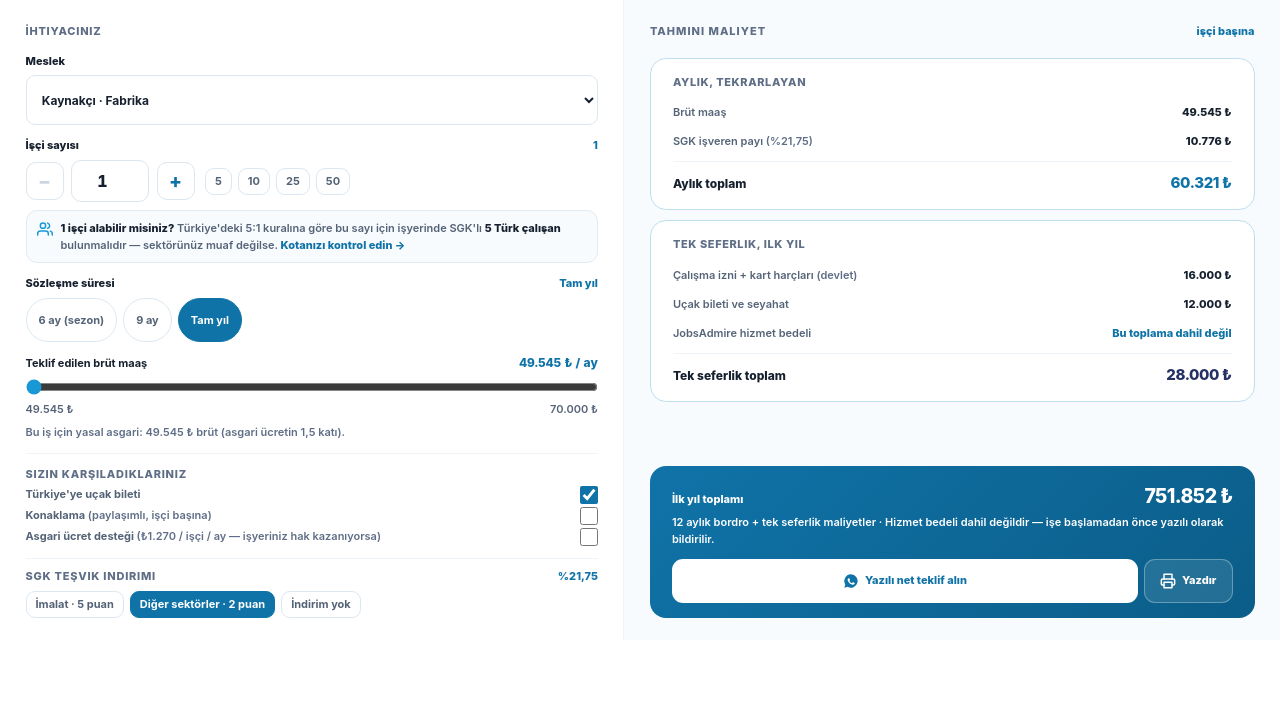
Test case: CalculatorIsland › the SGK tier is validated state: a chip sets it and the rate follows (W144)
This screenshot has width=1280, height=720.
Click the radio button labelled "İmalat · 5 puan" at (75, 604), box [26,591,124,618]
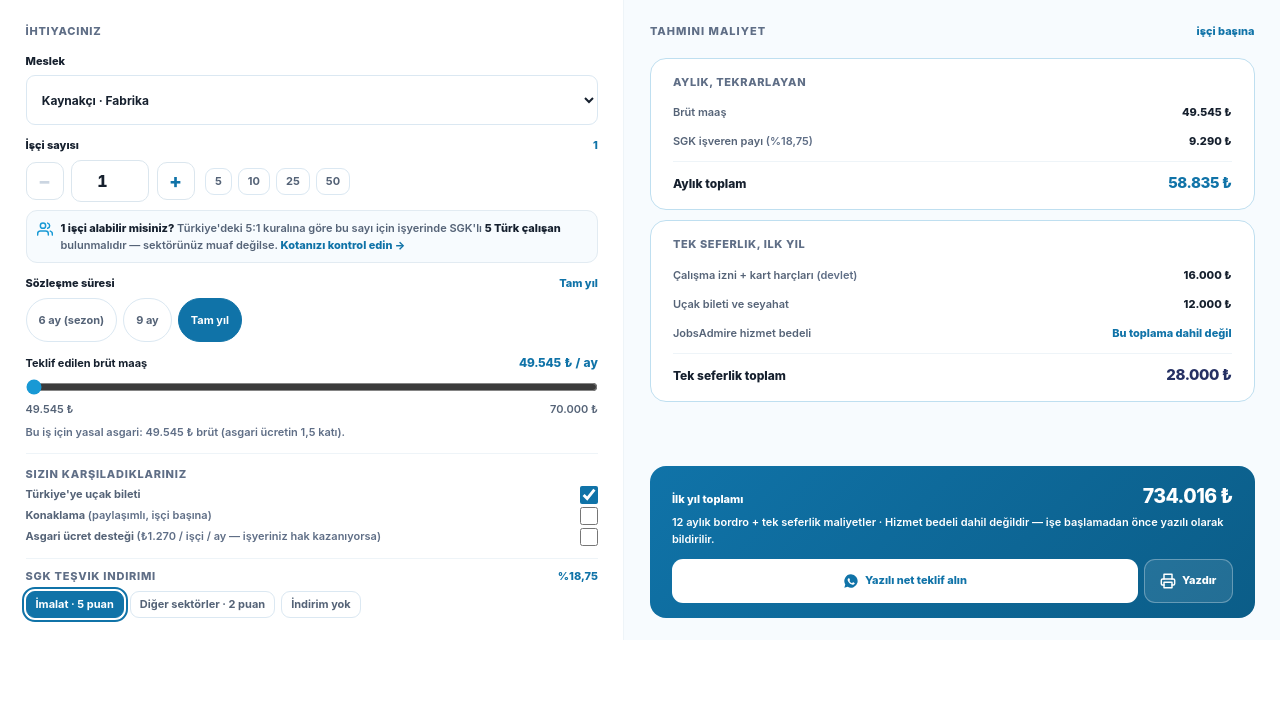
Now the text with test id "calc-monthly-total" reads "58.835 ₺", box [1168,173,1232,192]
Now the text "%18,75" is shown, box [558,568,598,585]
